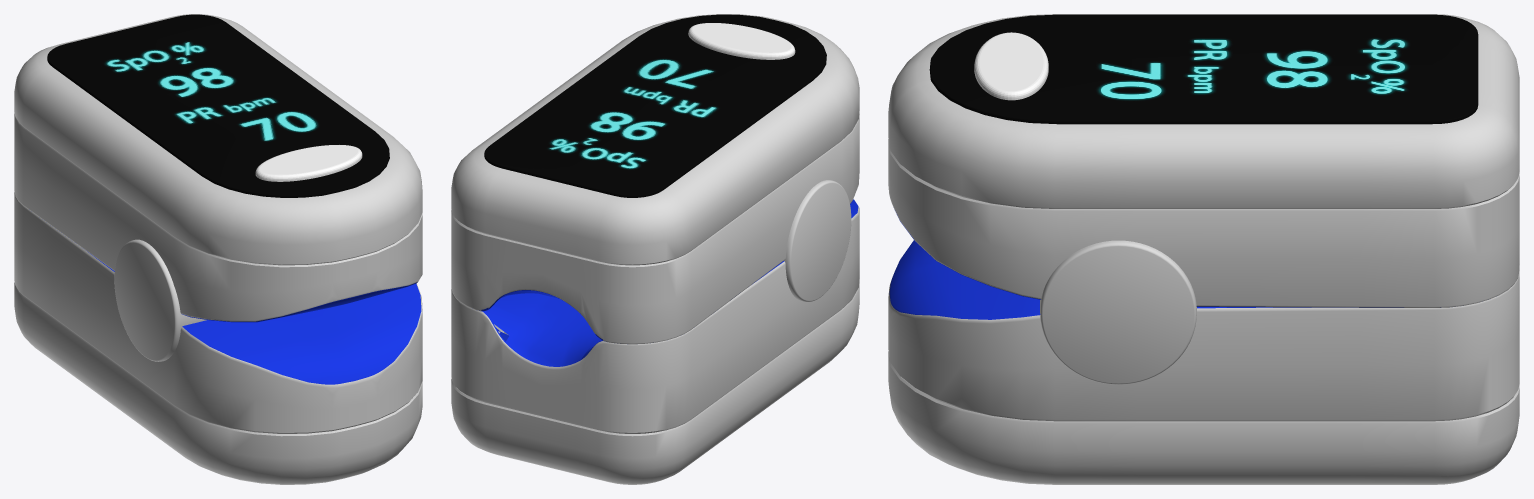
The model's file is oximeter.glb.
The picture shows the model from 3 angles, left to right: view 1: azimuth 30°, elevation 25°; view 2: azimuth 150°, elevation 25°; view 3: azimuth 270°, elevation 25°; orthographic projection. The views are drawn at different scales.
Visible parts, largest first — view 1: Top_4, Bottom_1, Cylinder.001_3, Cylinder_2; view 2: Top_4, Bottom_1, Cylinder.001_3, Cylinder_2; view 3: Top_4, Bottom_1, Cylinder.001_3, Cylinder_2.
Part boxes in pixels (x1,y1,x2,y2): Top_4: [14, 14, 422, 322]; Bottom_1: [14, 192, 422, 484]; Cylinder.001_3: [114, 239, 206, 361]; Cylinder_2: [255, 145, 362, 181]; Top_4: [451, 14, 859, 344]; Bottom_1: [451, 199, 859, 484]; Cylinder.001_3: [784, 180, 851, 302]; Cylinder_2: [688, 23, 795, 59]; Top_4: [888, 14, 1519, 307]; Bottom_1: [888, 240, 1519, 484]; Cylinder.001_3: [1040, 240, 1196, 384]; Cylinder_2: [974, 32, 1048, 100].
Bounding box in the file's own units: 1.03 × 1.22 × 1.87.
Materials: 4 (1 with a texture image).
